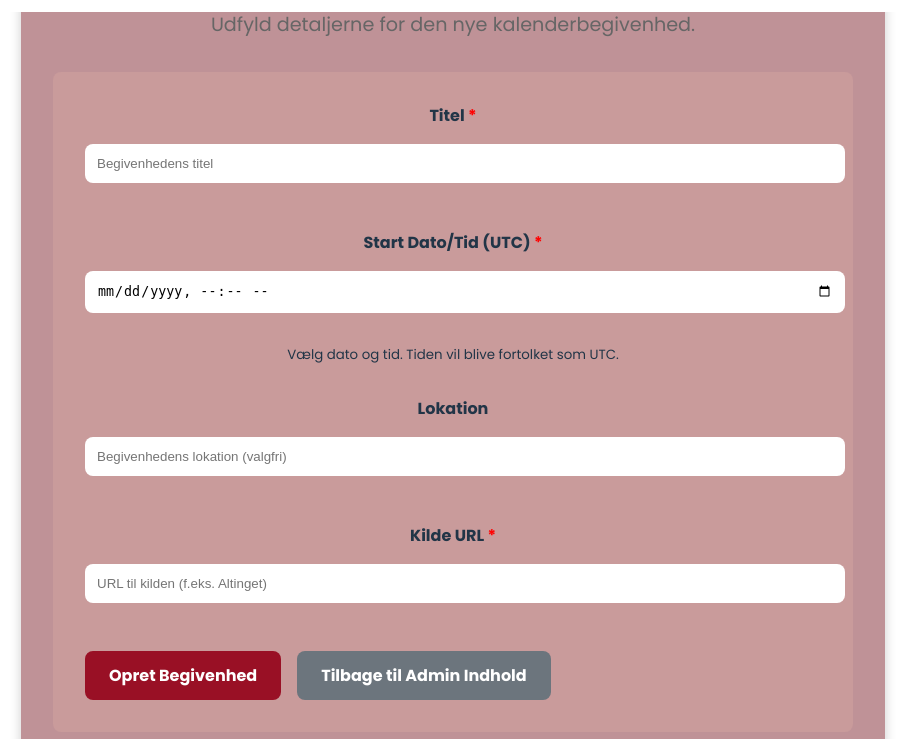
Test case: AddEvent Component › submits the form data correctly
(page scrolled)
Type "Test Event" into the field labelled "Titel *" at (465, 164), box [85,144,845,183]
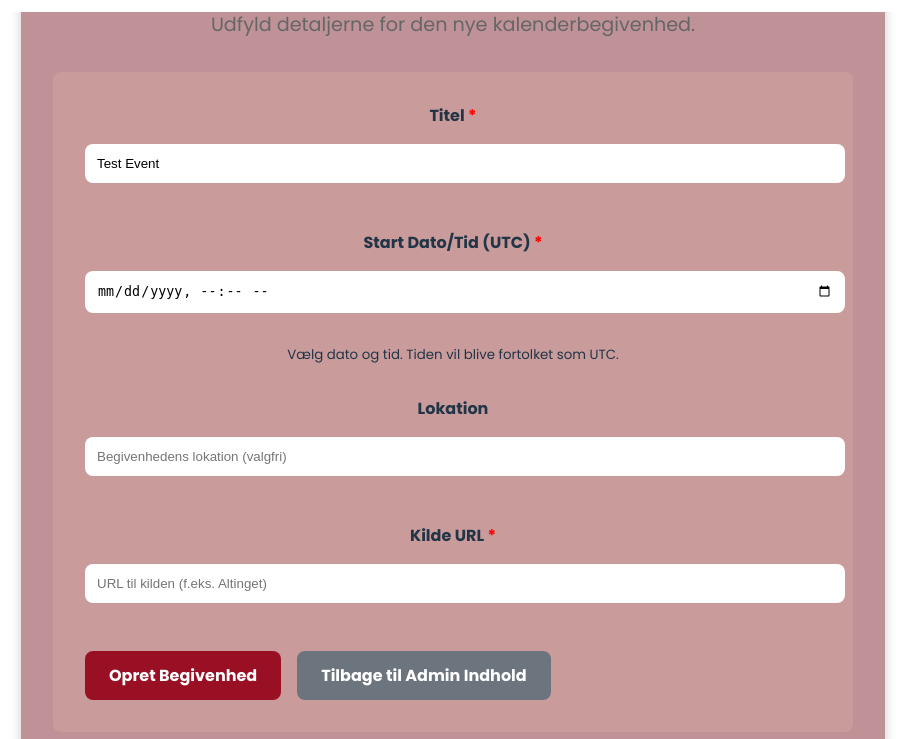
Type "2025-12-31T10:00" into the field labelled "Start Dato/Tid (UTC) *" at (465, 292), box [85,271,845,312]
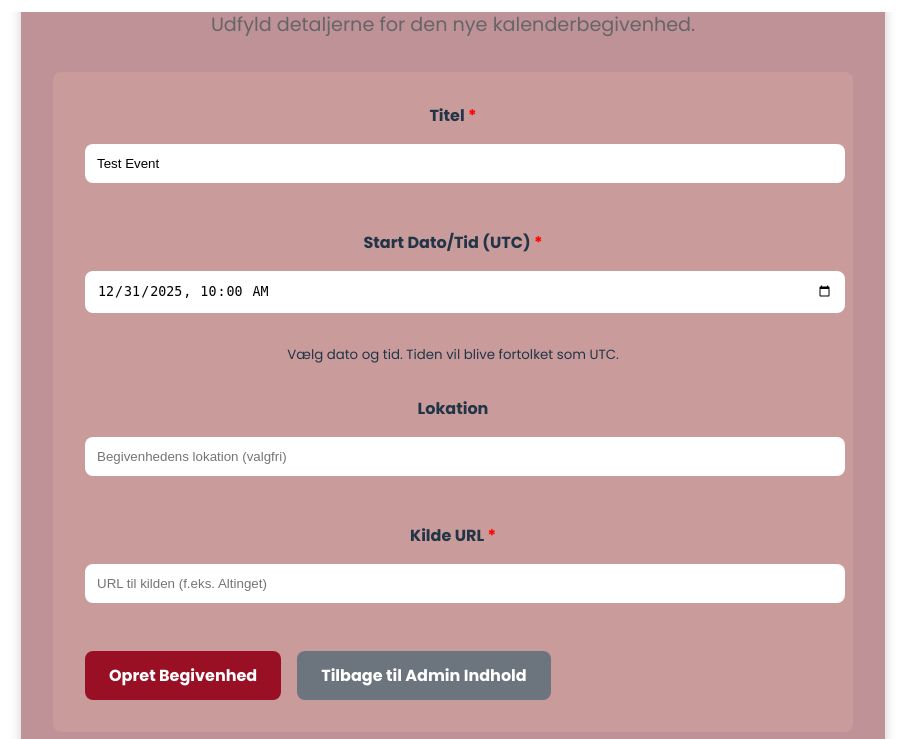
Type "Test Location" into the field labelled "Lokation" at (465, 456), box [85,436,845,476]
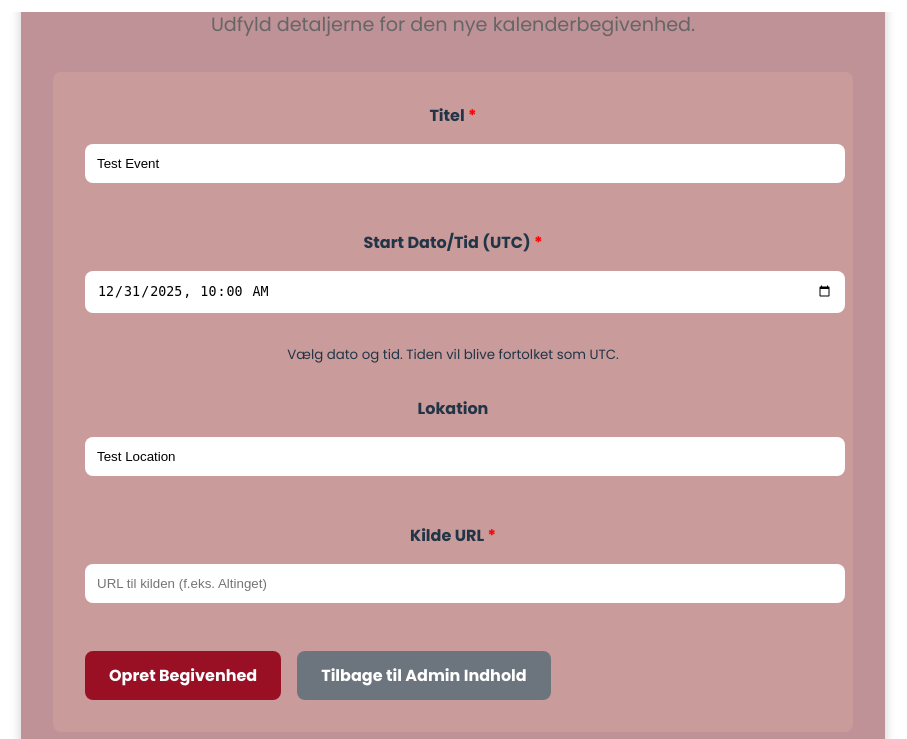
Type "http://example.com" into the field labelled "Kilde URL *" at (465, 583), box [85,564,845,602]
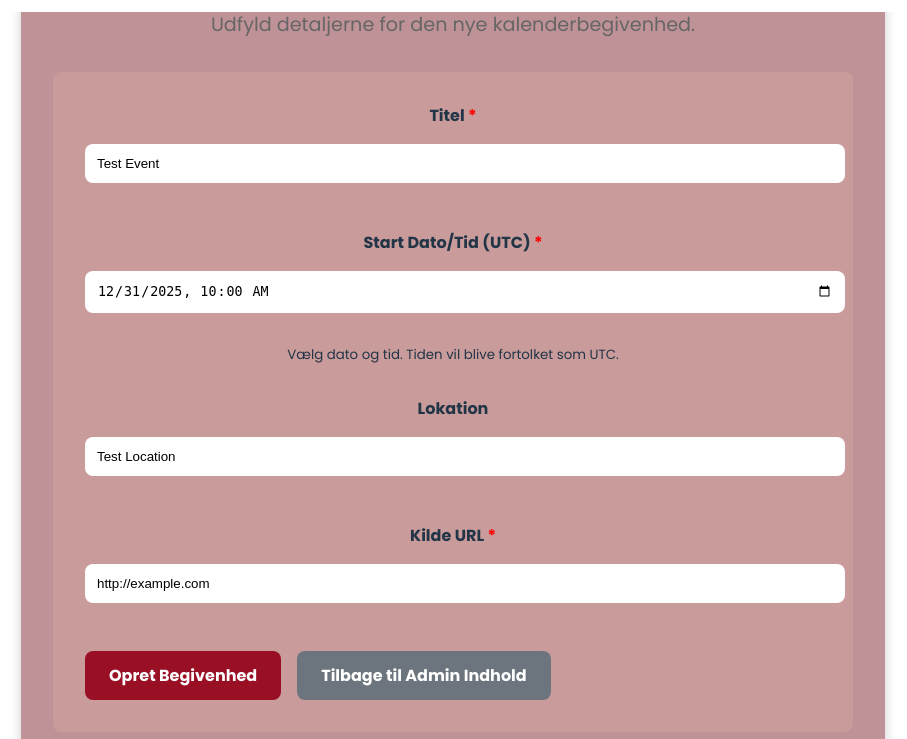
Submit the form from the button "Opret Begivenhed", box [85,650,281,700]
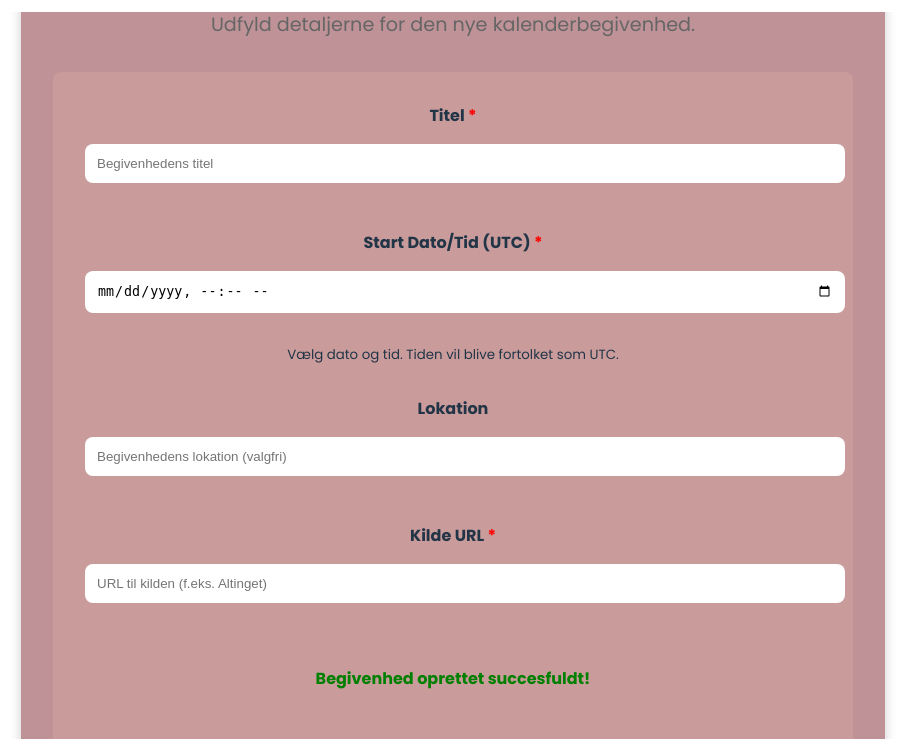
Expected: the text "Begivenhed oprettet succesfuldt!" is shown, [316,666,590,690]
